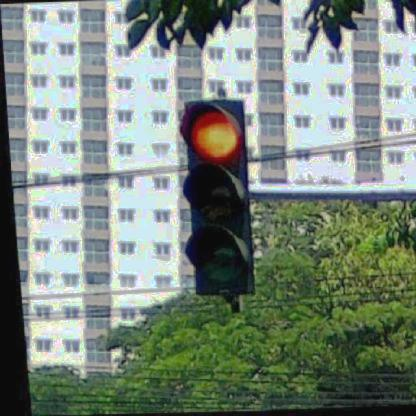Traffic Light -Red-: (171, 99, 256, 295)
